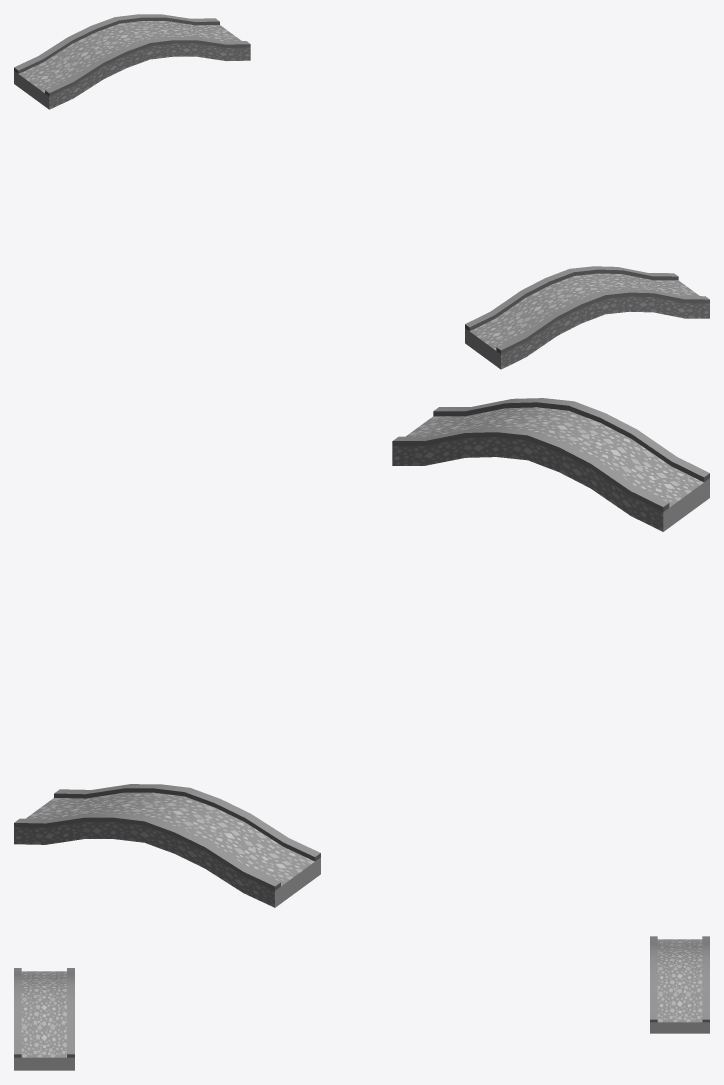
Rendered from bridges.fbx.
The picture shows the model from 3 angles, top to bottom: view 1: azimuth 30°, elevation 25°; view 2: azimuth 150°, elevation 25°; view 3: azimuth 270°, elevation 25°; orthographic projection. The views are drawn at different scales.
Parts seen in each view (by area): view 1: pCube130, pCube131; view 2: pCube130, pCube131; view 3: pCube130, pCube131.
Part boxes in pixels (<box>): pCube130: <box>465,266,709,369</box>; pCube131: <box>14,14,250,109</box>; pCube130: <box>392,398,709,531</box>; pCube131: <box>14,784,320,907</box>; pCube130: <box>14,968,74,1070</box>; pCube131: <box>650,936,709,1033</box>.
Bounding box in the file's own units: 26.94 × 4.43 × 67.4.
1 material, 1 textured.
